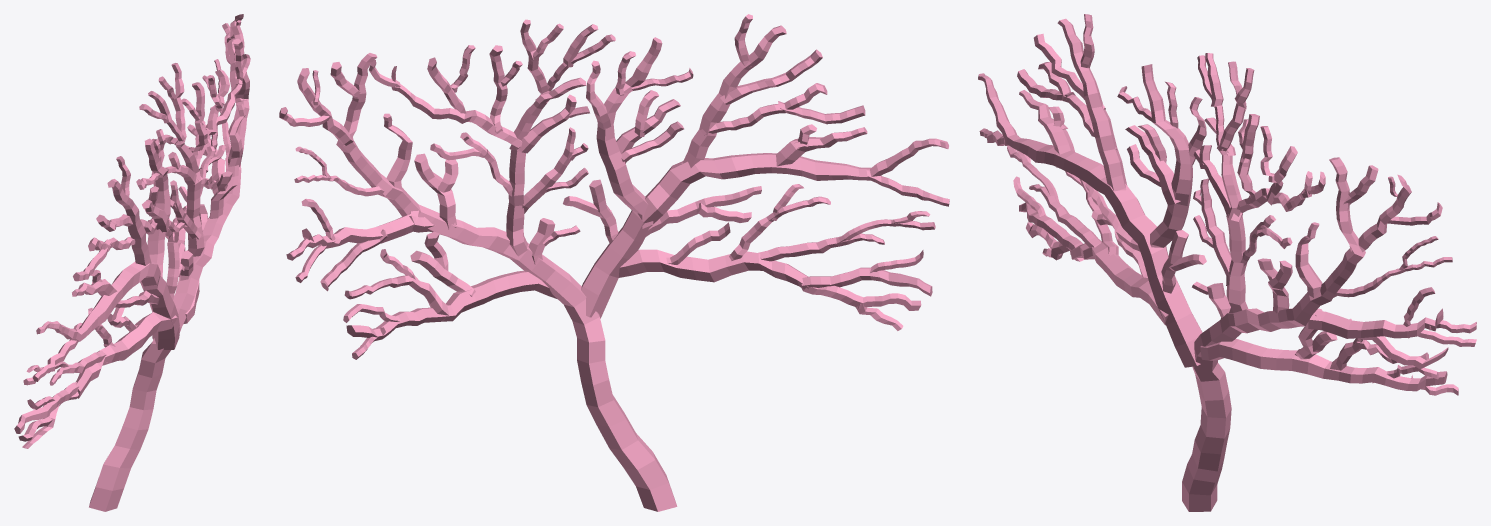
File: Coral_02.gltf
The picture shows the model from 3 angles, left to right: view 1: azimuth 30°, elevation 25°; view 2: azimuth 150°, elevation 25°; view 3: azimuth 270°, elevation 25°; orthographic projection. The views are drawn at different scales.
Parts seen in each view (by area): view 1: group1533979519; view 2: group1533979519; view 3: group1533979519.
Boxes of the visible parts, box(x1,y1,x2,y2) form: group1533979519: box(14, 14, 250, 511); group1533979519: box(279, 14, 949, 511); group1533979519: box(978, 14, 1476, 511).
Bounding box in the file's own units: 1.88 × 1.89 × 1.74.
